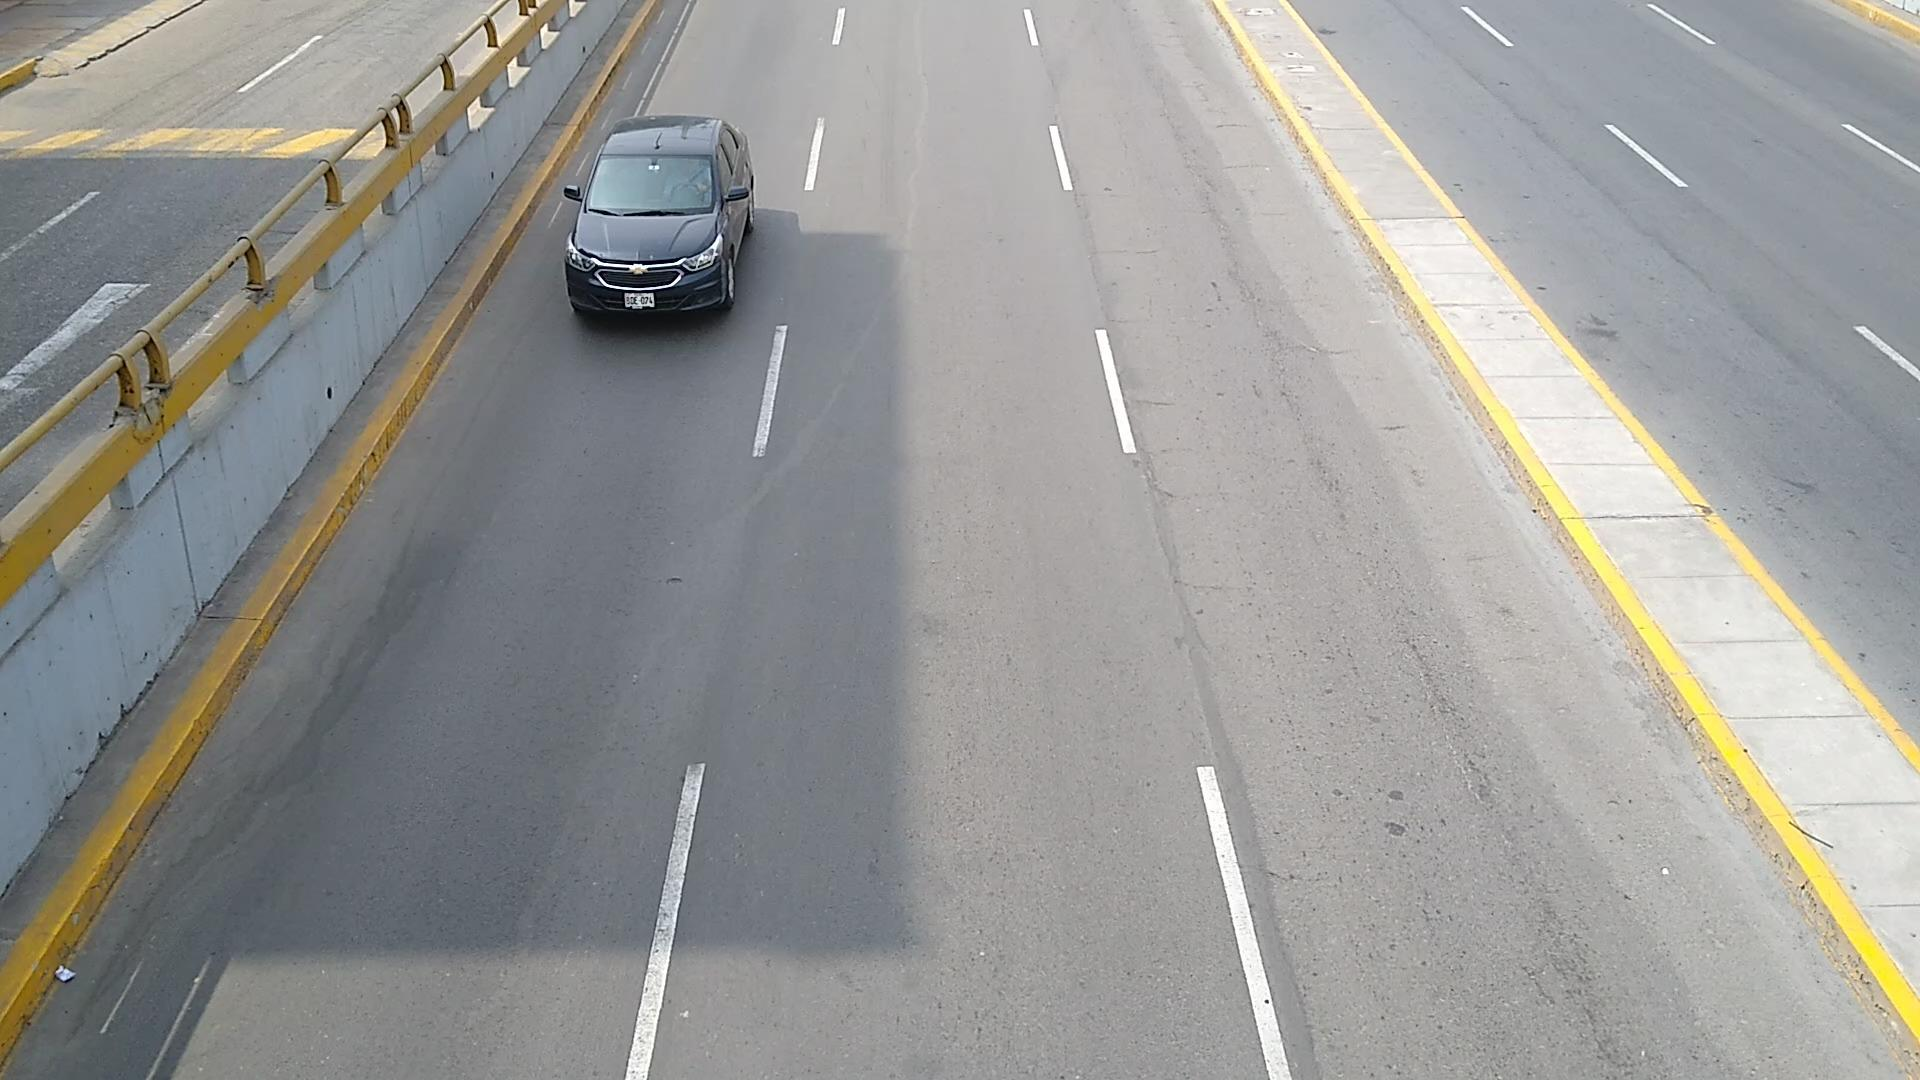car: (0, 0, 492, 440)
